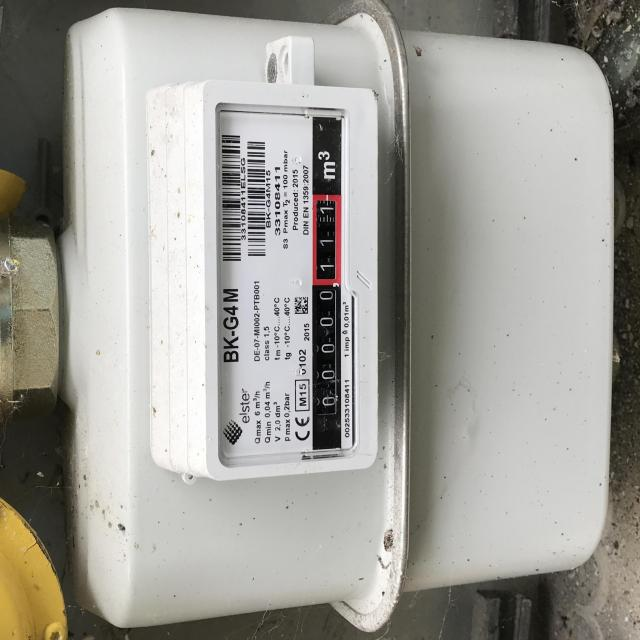gaz_meter: (215, 105, 350, 459)
indication: (312, 195, 343, 425)
